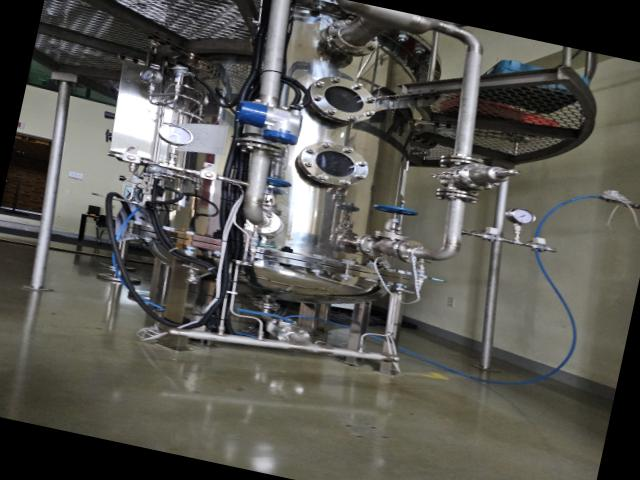Flange: (294, 136, 372, 193), (304, 72, 381, 128)
Flush Ring: (322, 15, 382, 60), (238, 204, 284, 238), (234, 135, 286, 160), (391, 236, 428, 268), (272, 322, 314, 350), (432, 184, 480, 208), (438, 152, 484, 176), (356, 233, 394, 261)
GasRegulator: (134, 58, 212, 122)
Nuts: (114, 150, 148, 168), (190, 168, 226, 184), (526, 241, 554, 256), (476, 230, 504, 244)
Piston Valve: (367, 202, 418, 244), (258, 176, 292, 216)
Pressure Gage: (150, 122, 196, 172), (501, 206, 538, 244)
